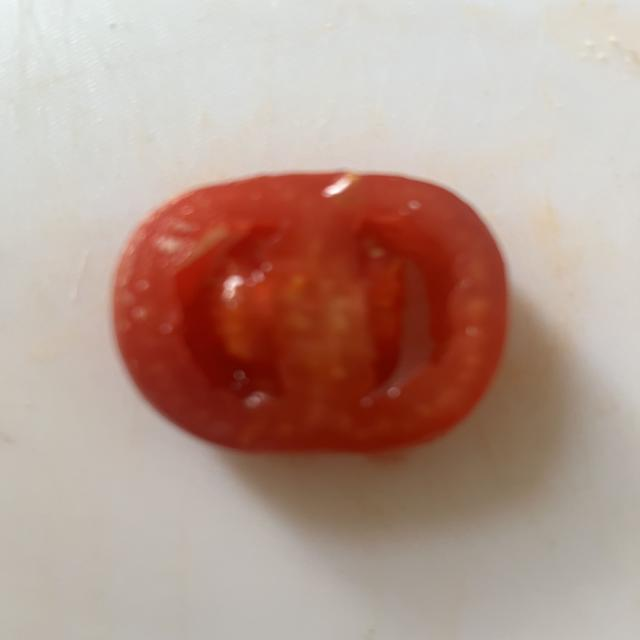sliced_tomato: (114, 173, 506, 451)
